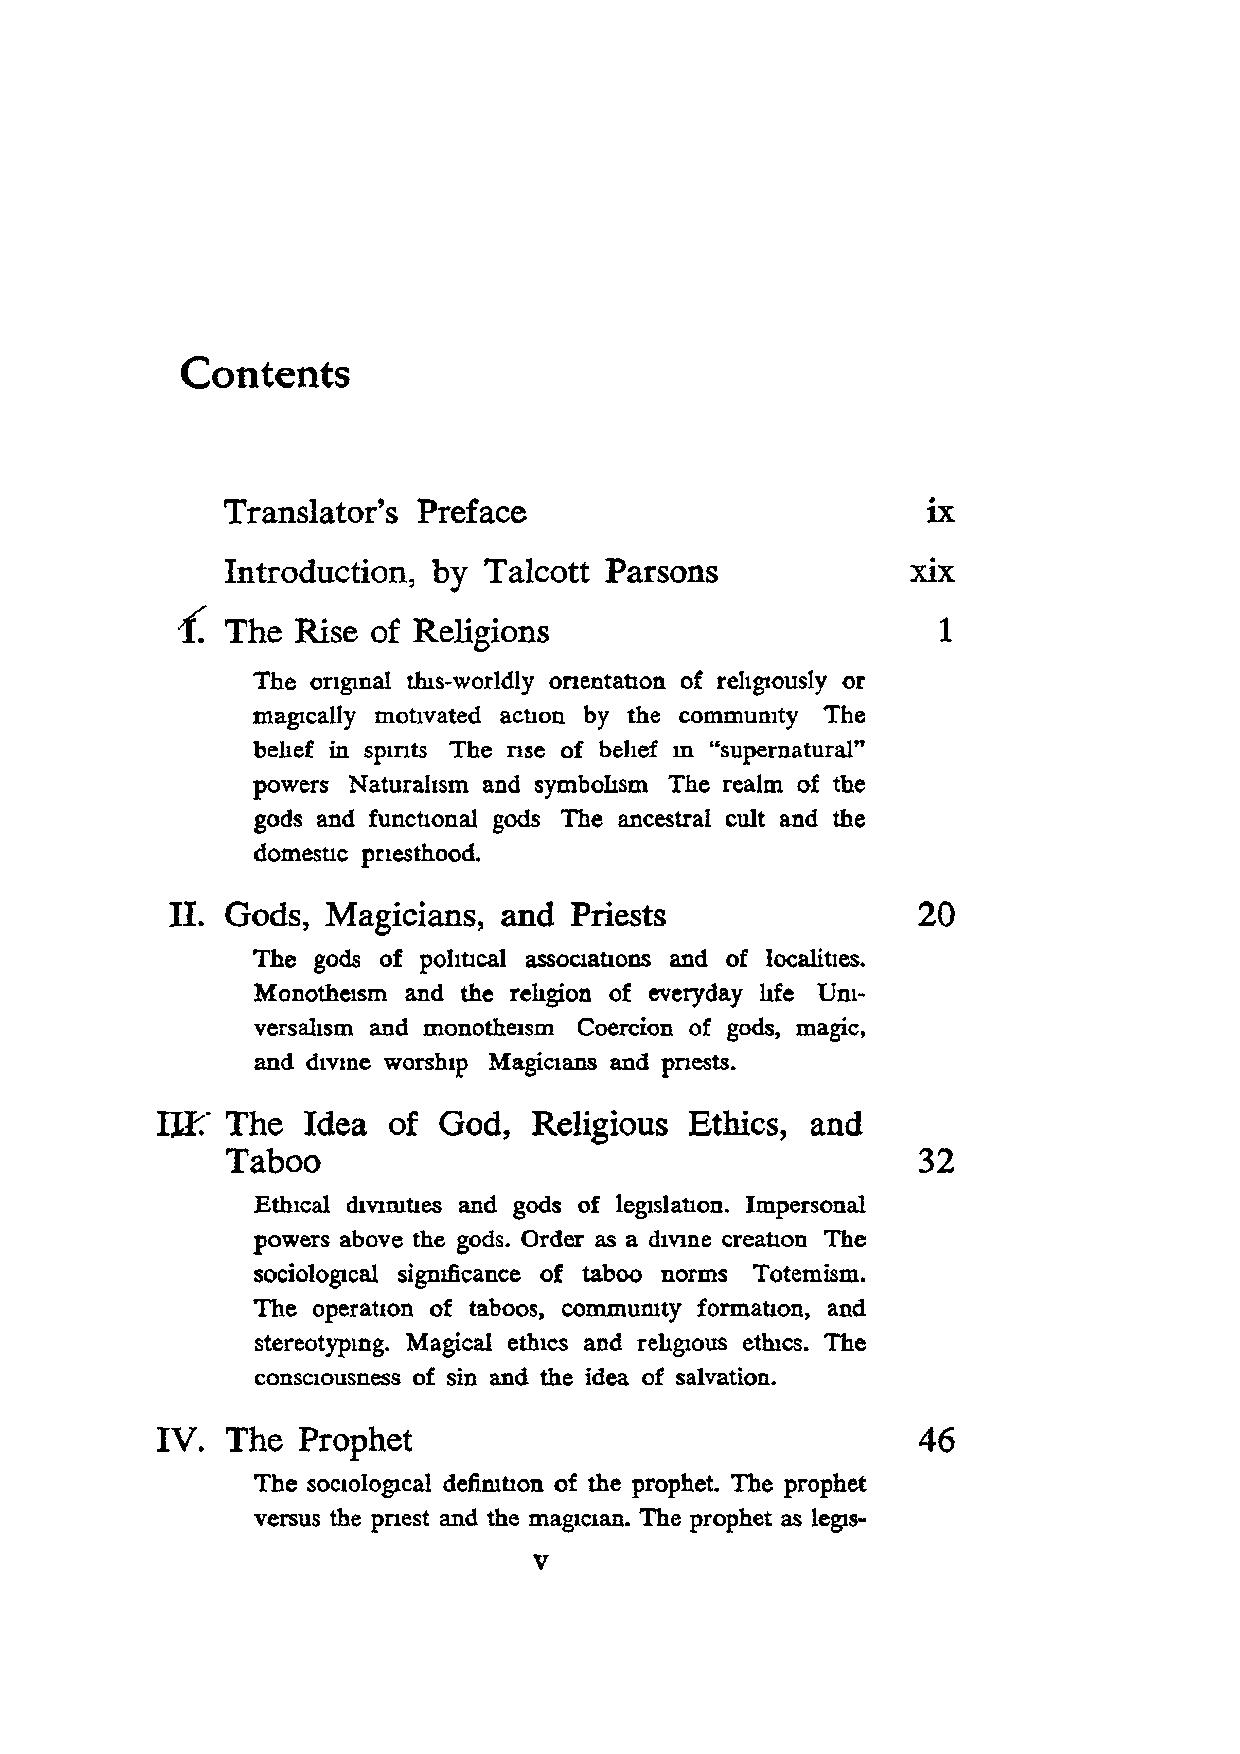TOC_chapter: (154, 1106, 870, 1394), (178, 612, 870, 871), (161, 896, 870, 1079), (149, 1421, 871, 1537), (221, 556, 718, 588), (219, 487, 533, 531)
TOC_pagenumber: (910, 557, 955, 585), (918, 896, 954, 930), (921, 491, 953, 526), (919, 1423, 954, 1451), (921, 1147, 955, 1174), (931, 611, 957, 644)
chapter: (176, 349, 349, 396)
